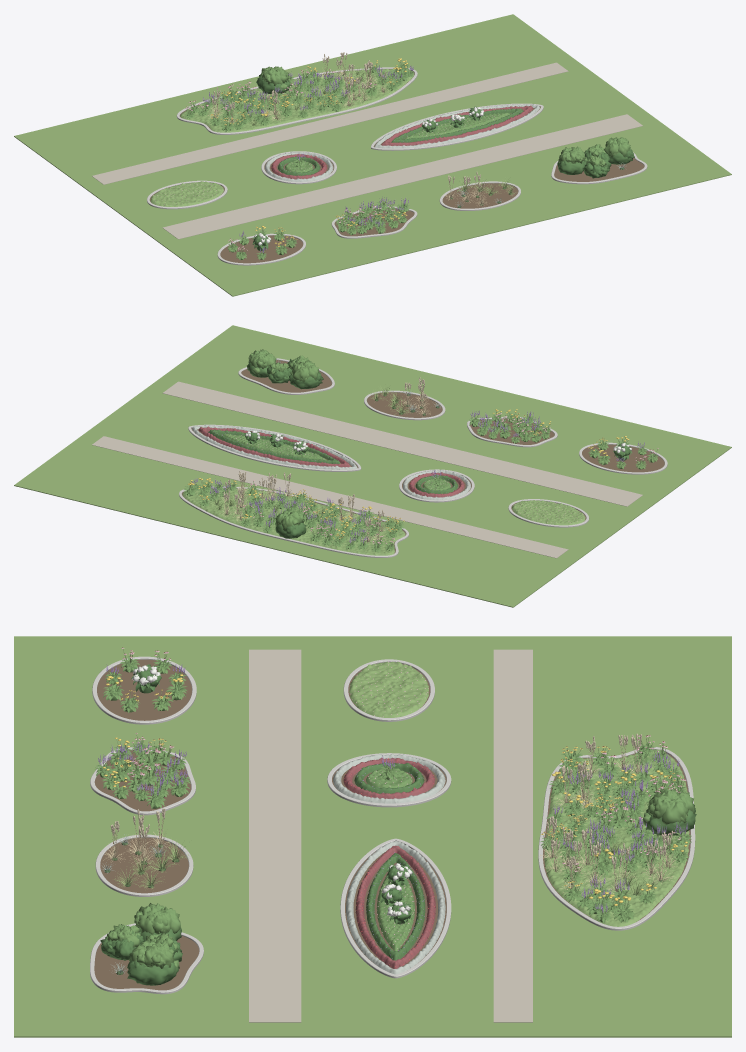
The model's file is clay-planting-kit-showcase-clay-v001.glb.
The picture shows the model from 3 angles, top to bottom: view 1: azimuth 30°, elevation 25°; view 2: azimuth 150°, elevation 25°; view 3: azimuth 270°, elevation 25°; orthographic projection. The views are drawn at different scales.
Visible parts, largest first — view 1: CLAY_GRASS, CLAY_GRAVEL, CLAY_PK_LEAF2, CLAY_GRANITE, CLAY_PK_MULCH, CLAY_PK_LEAF_SILVER, CLAY_PK_LEAF_RED, CLAY_PK_LEAF_DARK, CLAY_PK_LEAF; view 2: CLAY_GRASS, CLAY_GRAVEL, CLAY_PK_LEAF2, CLAY_GRANITE, CLAY_PK_MULCH, CLAY_PK_LEAF_SILVER, CLAY_PK_LEAF_RED, CLAY_PK_LEAF_DARK, CLAY_PK_LEAF; view 3: CLAY_GRASS, CLAY_GRAVEL, CLAY_PK_MULCH, CLAY_PK_LEAF2, CLAY_GRANITE, CLAY_PK_LEAF_SILVER, CLAY_PK_LEAF_RED, CLAY_PK_LEAF_DARK, CLAY_PK_LEAF, shrub1 pk_leaf 54, shrub1 pk_leaf 45, shrub1 pk_leaf 47 (+3 smaller).
Part boxes in pixels (x1,y1,x2,y2): CLAY_GRASS: [14, 14, 731, 296]; CLAY_GRAVEL: [92, 62, 642, 239]; CLAY_PK_LEAF2: [150, 68, 413, 206]; CLAY_GRANITE: [147, 67, 647, 265]; CLAY_PK_MULCH: [149, 69, 644, 263]; CLAY_PK_LEAF_SILVER: [265, 104, 539, 181]; CLAY_PK_LEAF_RED: [271, 105, 533, 179]; CLAY_PK_LEAF_DARK: [278, 108, 523, 175]; CLAY_PK_LEAF: [285, 112, 510, 172]; CLAY_GRASS: [14, 325, 731, 607]; CLAY_GRAVEL: [92, 381, 642, 558]; CLAY_PK_LEAF2: [182, 487, 585, 555]; CLAY_GRANITE: [179, 358, 667, 557]; CLAY_PK_MULCH: [182, 360, 664, 553]; CLAY_PK_LEAF_SILVER: [192, 424, 470, 500]; CLAY_PK_LEAF_RED: [199, 426, 464, 497]; CLAY_PK_LEAF_DARK: [208, 429, 457, 493]; CLAY_PK_LEAF: [222, 433, 451, 490]; CLAY_GRASS: [14, 636, 731, 1037]; CLAY_GRAVEL: [249, 649, 532, 1022]; CLAY_PK_MULCH: [94, 659, 690, 990]; CLAY_PK_LEAF2: [349, 661, 689, 926]; CLAY_GRANITE: [90, 656, 695, 994]; CLAY_PK_LEAF_SILVER: [333, 754, 445, 974]; CLAY_PK_LEAF_RED: [343, 757, 435, 968]; CLAY_PK_LEAF_DARK: [354, 762, 425, 960]; CLAY_PK_LEAF: [366, 768, 414, 950]; shrub1 pk_leaf 54: [642, 788, 694, 824]; shrub1 pk_leaf 45: [134, 903, 180, 937]; shrub1 pk_leaf 47: [129, 939, 179, 968].
Bounding box in the file's own units: 29 × 1.62 × 22.
